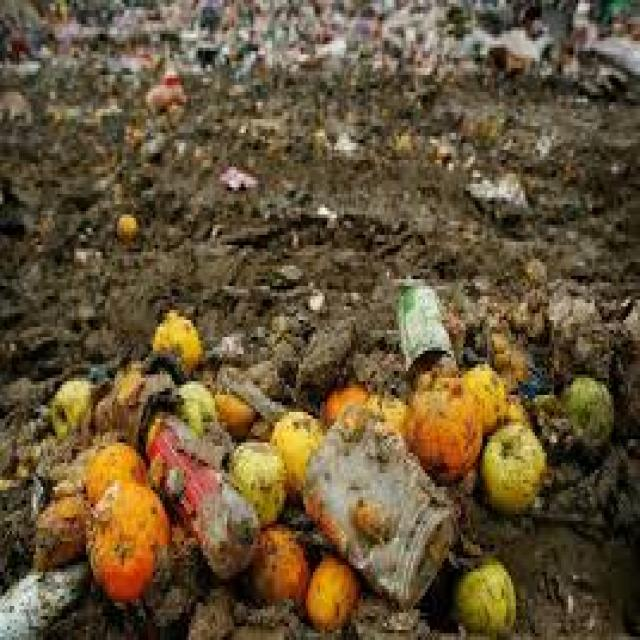food_waste: (28, 374, 592, 572)
